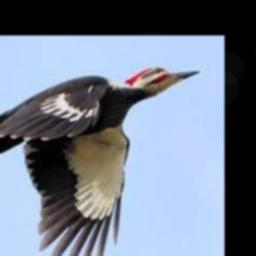Woodpecker: (0, 66, 201, 256)
